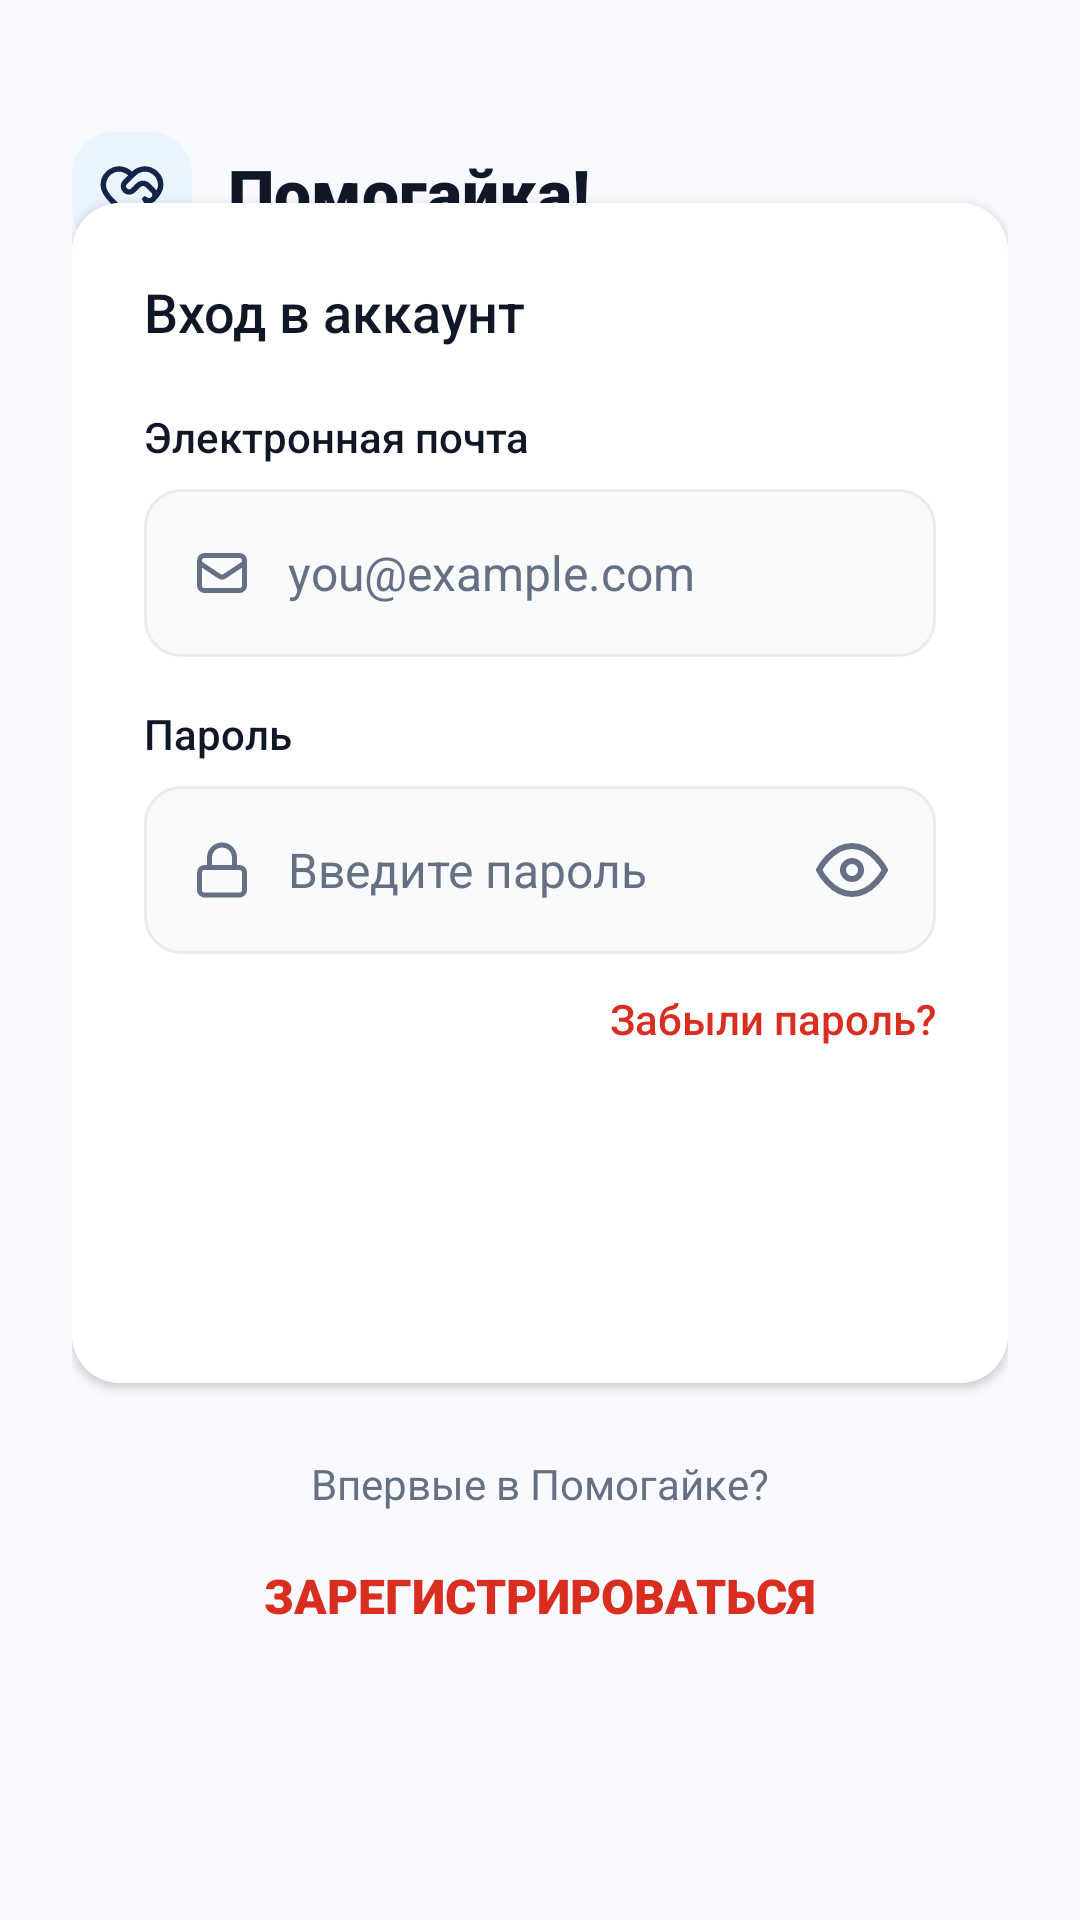

Icons on this 1080*1920 Android screen, each with the point to tap as point (x, y):
lock: point (222, 870)
mail: point (222, 573)
visibility: point (852, 870)
